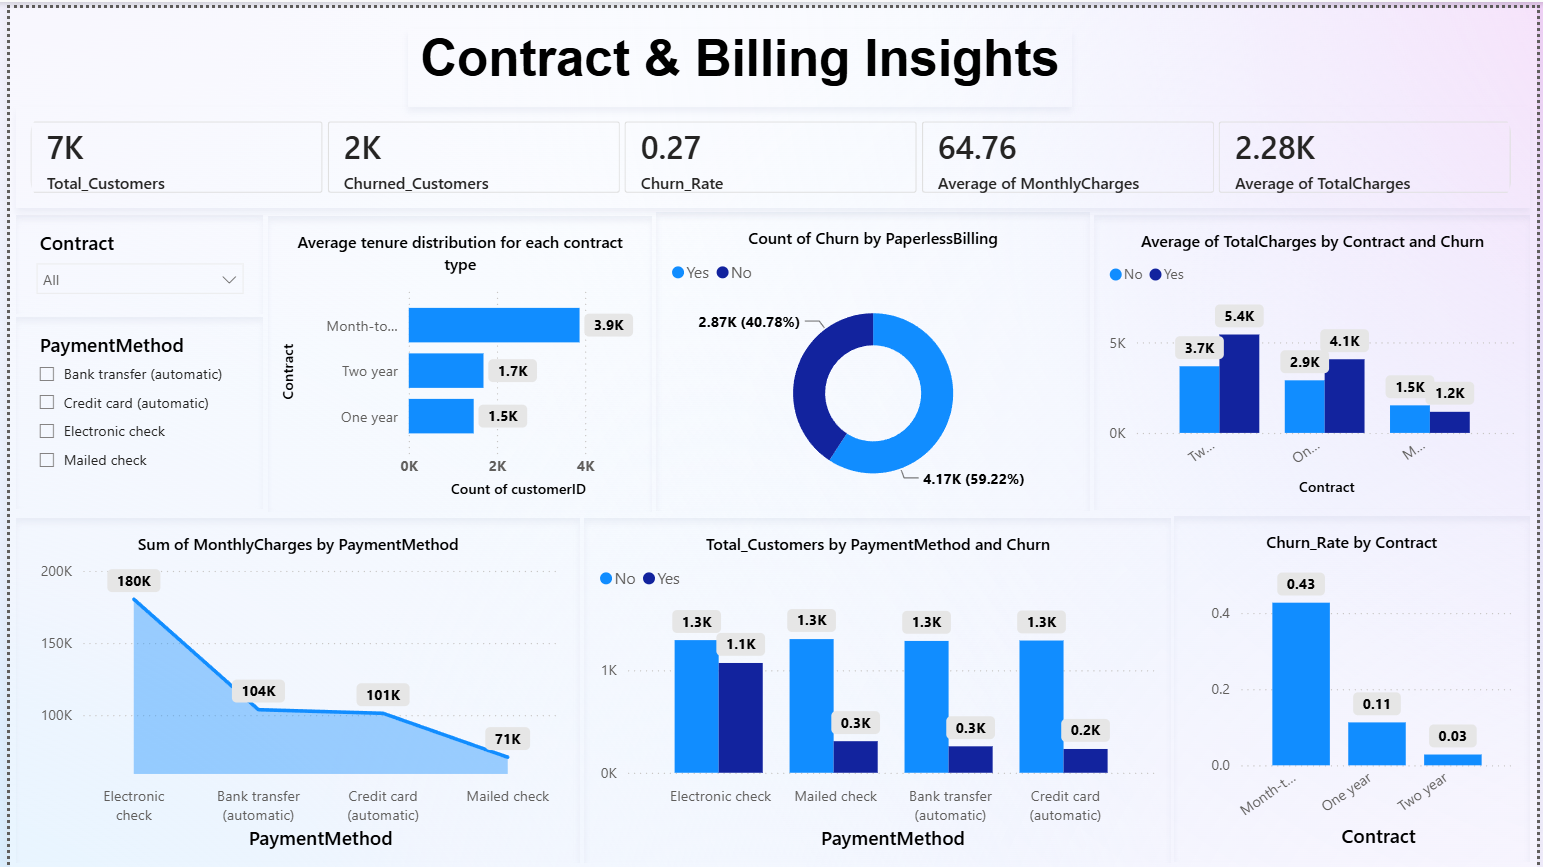

The dashboard page shown, as its layout file describes it:
{"tool":"powerbi","page":{"name":"Contract & Billing Insights","canvas":[1280,720],"ordinal":2},"visuals":[{"type":"textbox","box":[333.1,18.2,557.2,65.1],"z":0},{"type":"areaChart","fields":{"Category":["Churn_analysis.PaymentMethod"],"Y":["Sum(Churn_analysis.MonthlyCharges)"]},"box":[4.8,427.1,472.9,289.5],"z":1000},{"type":"clusteredColumnChart","fields":{"Category":["Churn_analysis.PaymentMethod"],"Y":["Churn_analysis.Total_Customers"],"Series":["Churn_analysis.Churn"]},"box":[481.4,427.1,492.2,289.5],"z":2000},{"type":"clusteredColumnChart","fields":{"Category":["Churn_analysis.Contract"],"Y":["Churn_analysis.Churn_Rate"]},"box":[976,425.9,298,289.5],"z":3000},{"type":"clusteredColumnChart","fields":{"Category":["Churn_analysis.Contract"],"Series":["Churn_analysis.Churn"],"Y":["Avg(Churn_analysis.TotalCharges)"]},"box":[908.4,173.7,365.6,247.3],"z":4000},{"type":"donutChart","fields":{"Category":["Churn_analysis.PaperlessBilling"],"Y":["CountNonNull(Churn_analysis.Churn)"]},"box":[541.7,171.3,363.1,250.9],"z":5000},{"type":"barChart","title":"Average tenure distribution for each contract type","fields":{"Category":["Churn_analysis.Contract"],"Y":["CountNonNull(Churn_analysis.customerID)"]},"box":[216,174.9,322.1,247.3],"z":6000},{"type":"slicer","fields":{"Values":["Churn_analysis.PaymentMethod"]},"box":[4.8,259.4,207.5,161.7],"z":7000},{"type":"slicer","fields":{"Values":["Churn_analysis.Contract"]},"box":[4.8,173.7,207.5,83.2],"z":8000},{"type":"cardVisual","fields":{"Data":["Churn_analysis.Total_Customers","Churn_analysis.Churned_Customers","Churn_analysis.Churn_Rate","Avg(Churn_analysis.MonthlyCharges)","Avg(Churn_analysis.TotalCharges)"]},"box":[4.8,83.2,1269.2,84.5],"z":9000}]}

Visuals, with their boxes in screenshot pixels (x1, y1, x2, y2), scaled from the page's 1280x720 canvas onto the 1543x867 screenshot:
textbox: Rect(402, 22, 1073, 100)
areaChart - Churn_analysis.PaymentMethod x Sum(Churn_analysis.MonthlyCharges): Rect(6, 514, 576, 863)
clusteredColumnChart - Churn_analysis.PaymentMethod x Churn_analysis.Total_Customers: Rect(580, 514, 1174, 863)
clusteredColumnChart - Churn_analysis.Contract x Churn_analysis.Churn_Rate: Rect(1177, 513, 1536, 861)
clusteredColumnChart - Churn_analysis.Contract x Churn_analysis.Churn: Rect(1095, 209, 1536, 507)
donutChart - Churn_analysis.PaperlessBilling x CountNonNull(Churn_analysis.Churn): Rect(653, 206, 1091, 508)
"Average tenure distribution for each contract type" barChart: Rect(260, 211, 649, 508)
slicer - Churn_analysis.PaymentMethod: Rect(6, 312, 256, 507)
slicer - Churn_analysis.Contract: Rect(6, 209, 256, 309)
cardVisual - Churn_analysis.Total_Customers x Churn_analysis.Churned_Customers: Rect(6, 100, 1536, 202)
